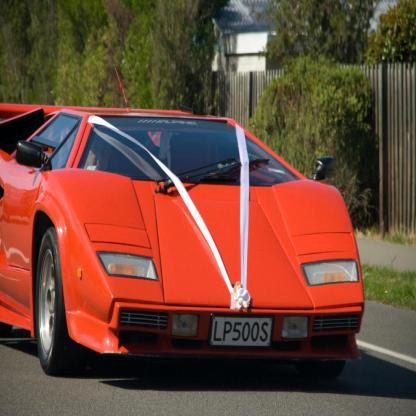Car: (0, 66, 365, 376)
